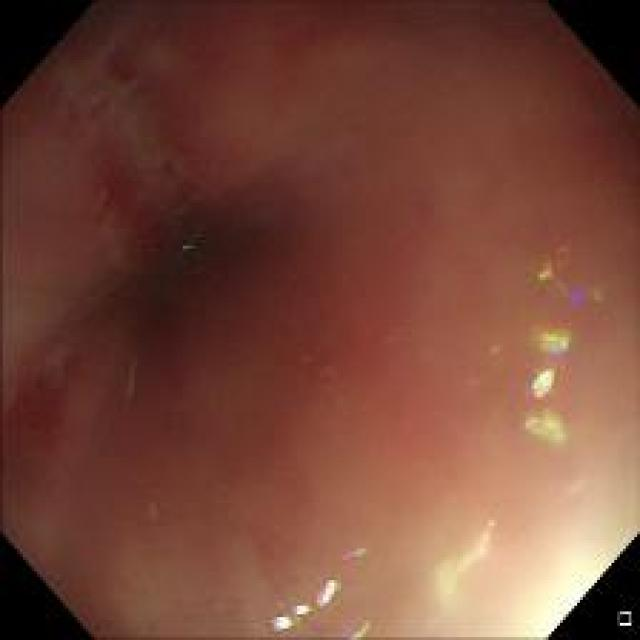color misalignment: (501, 310, 589, 458), (252, 538, 375, 625), (541, 225, 609, 310), (442, 511, 504, 586), (179, 241, 195, 252)
contrast: (102, 186, 270, 341)
saturation: (435, 499, 630, 631)
specularity: (532, 366, 558, 398), (320, 579, 338, 604), (272, 615, 295, 630), (291, 604, 312, 616)
